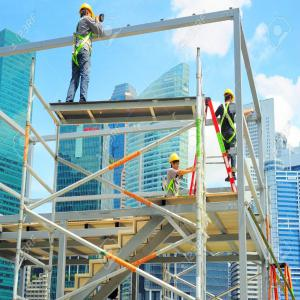yellow: (80, 5, 95, 22), (171, 154, 181, 172), (224, 91, 235, 106)
